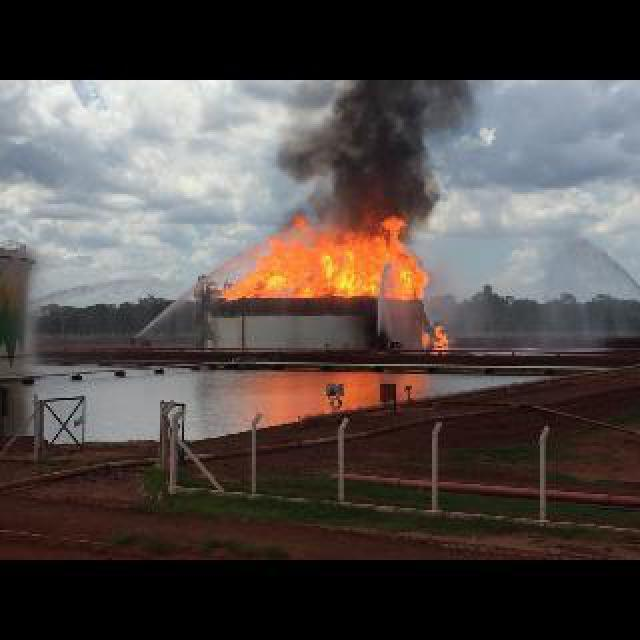Fire: (215, 206, 430, 302), (422, 320, 452, 358)
Smoke: (264, 79, 476, 205)
